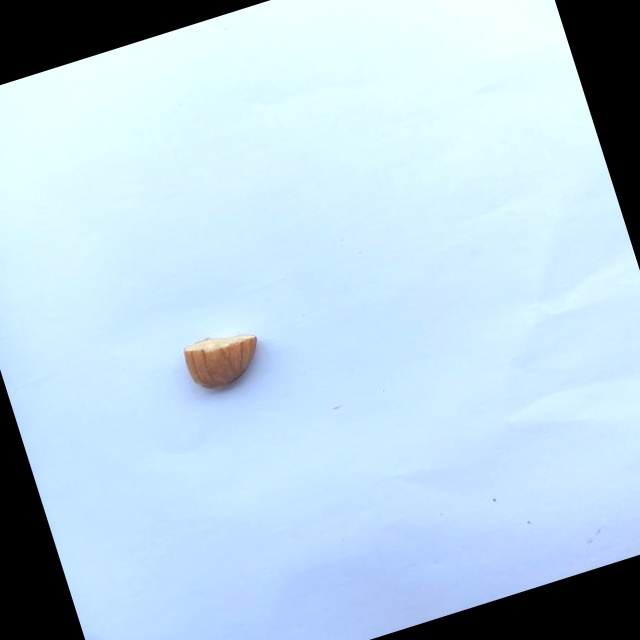grade4: (173, 317, 278, 404)
